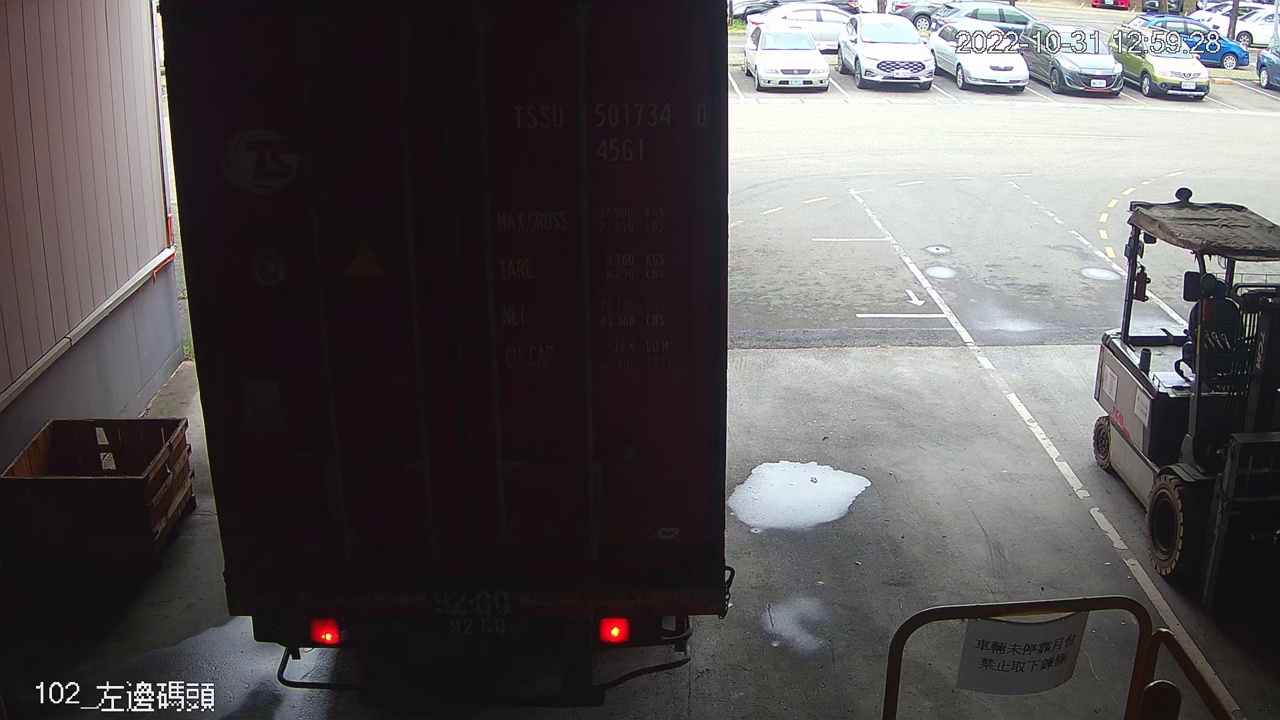container: (500, 93, 716, 169)
